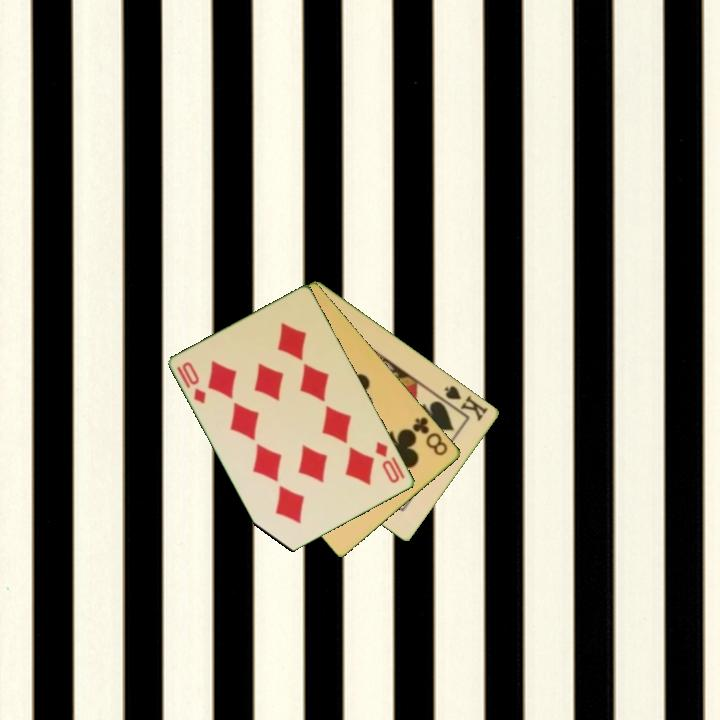10d: (372, 438, 403, 486), (179, 358, 209, 407)
8c: (409, 413, 451, 459)
Ks: (437, 382, 491, 424)
